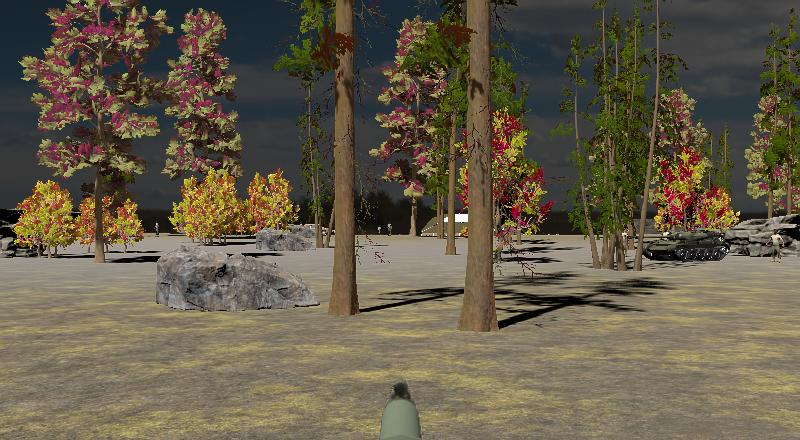Human: (769, 230, 785, 264)
Tank: (633, 228, 729, 263)
